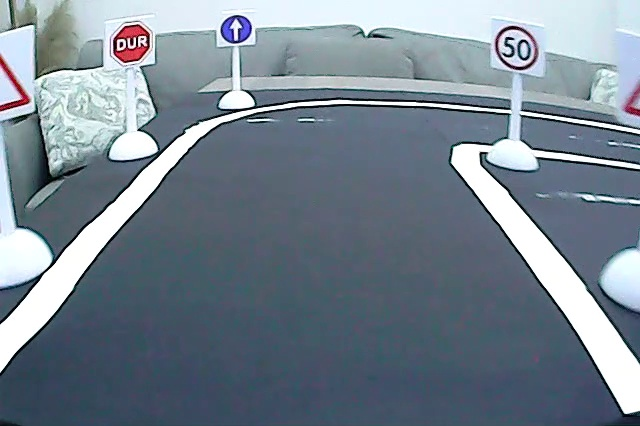speed limit 50: (491, 24, 541, 74)
stop sign: (109, 20, 155, 67)
